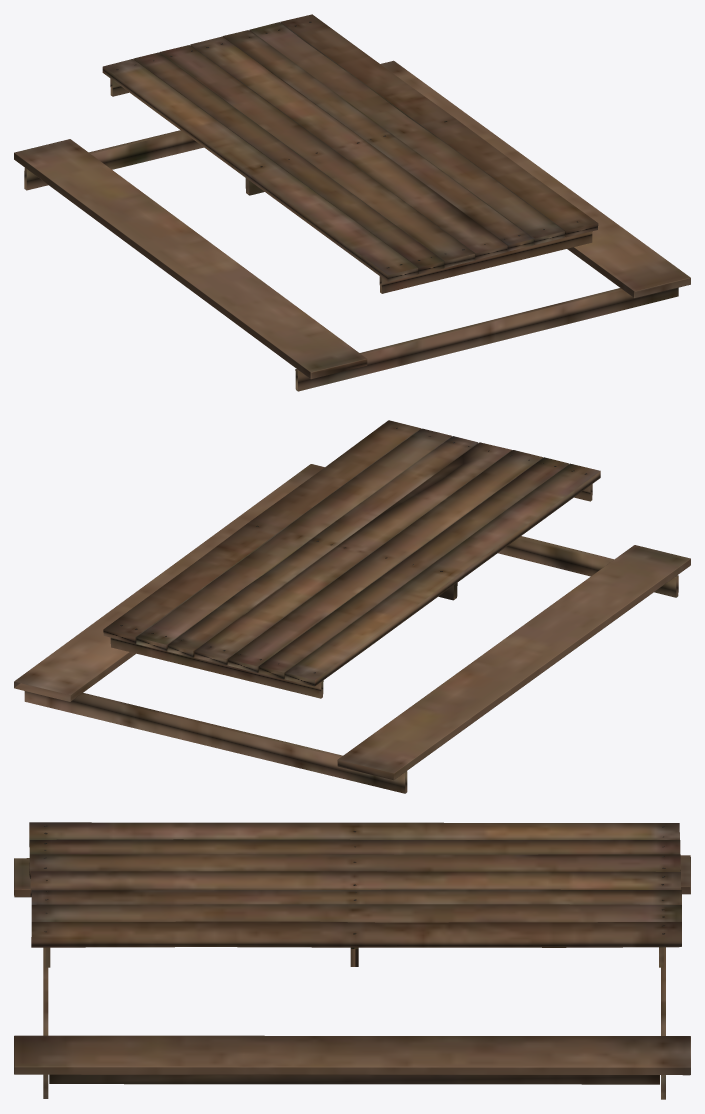
The model's file is table_pique_nique_lod2.glb.
3 views of the same model, one above another, from view 1: azimuth 30°, elevation 25°; view 2: azimuth 150°, elevation 25°; view 3: azimuth 270°, elevation 25° (orthographic). The views are drawn at different scales.
Visible parts, largest first — view 1: wooden_picnic_table; view 2: wooden_picnic_table; view 3: wooden_picnic_table.
Part boxes in pixels (bbox=[...]): wooden_picnic_table: bbox=[14, 14, 690, 391]; wooden_picnic_table: bbox=[14, 420, 690, 793]; wooden_picnic_table: bbox=[14, 822, 690, 1099].
Size of the model in its own units: 2.24 by 0.5652 by 3.02.
Materials: 2 (2 with a texture image).
